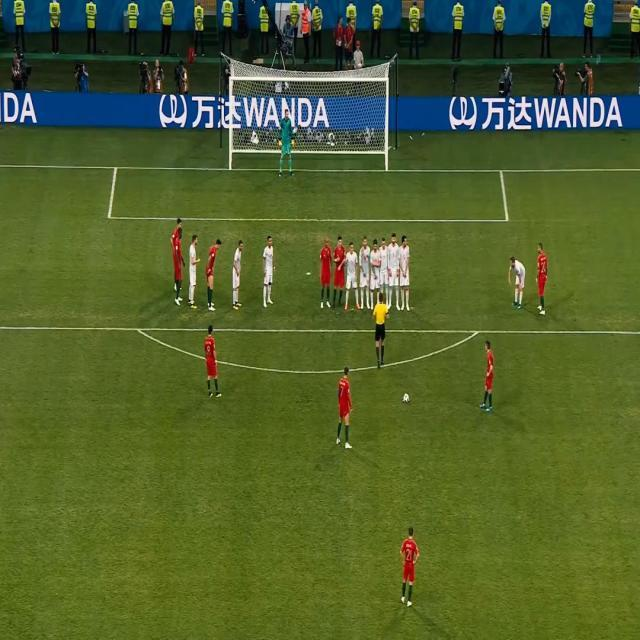ball: (402, 388, 413, 405)
goalkeeper: (278, 109, 298, 177)
player: (396, 523, 421, 609), (334, 364, 356, 453), (202, 320, 224, 398), (371, 293, 391, 367), (477, 339, 496, 412), (203, 239, 222, 311), (507, 252, 527, 312), (261, 233, 276, 309), (535, 241, 549, 316), (333, 235, 347, 310), (319, 237, 333, 311), (358, 238, 372, 312), (343, 241, 357, 314), (187, 233, 200, 310), (398, 236, 411, 312), (173, 230, 185, 308), (387, 233, 399, 311), (231, 239, 244, 310), (370, 238, 381, 311), (380, 237, 390, 291), (171, 216, 183, 252)
